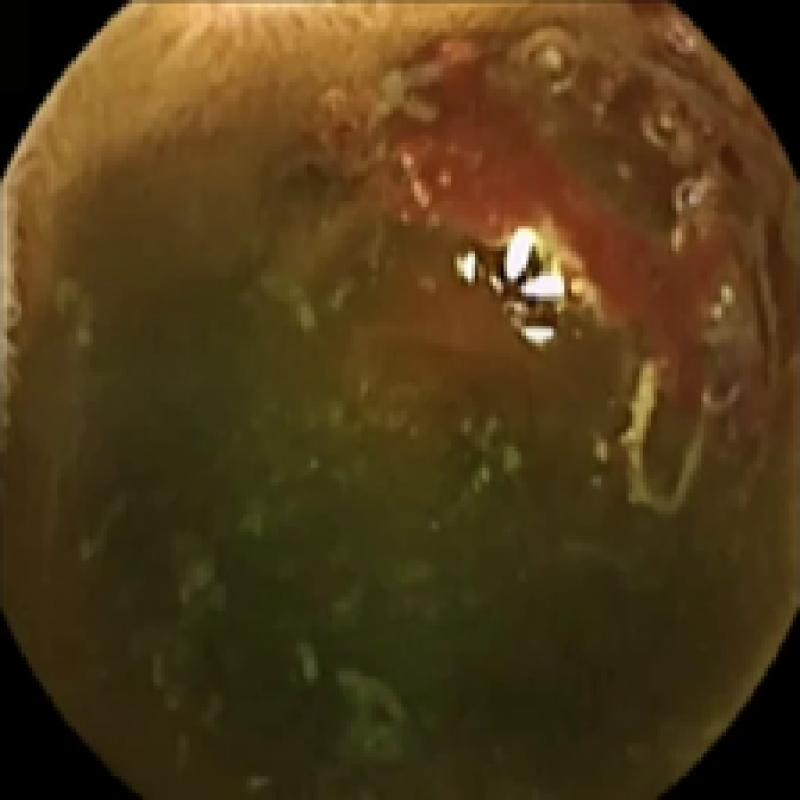bleeding: (361, 64, 739, 379)
